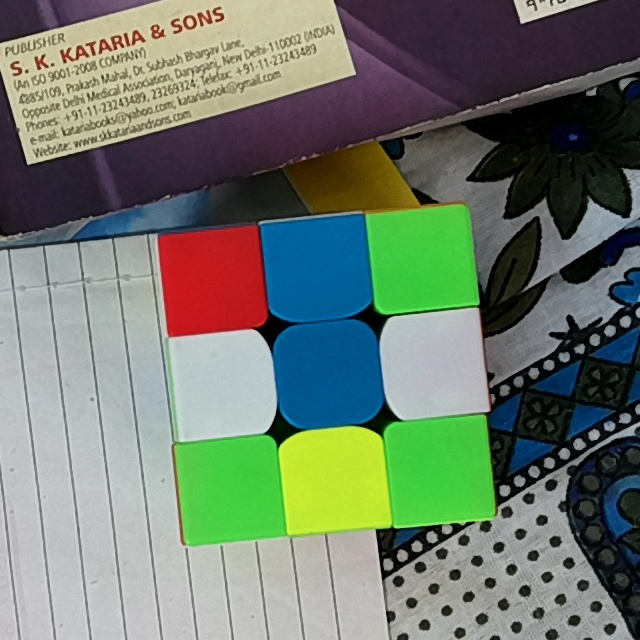tile: (390, 319, 477, 408), (178, 341, 265, 429), (397, 428, 485, 515), (171, 236, 256, 322), (284, 330, 371, 414), (379, 216, 466, 299), (272, 225, 361, 306), (187, 448, 272, 531), (294, 439, 379, 521)
